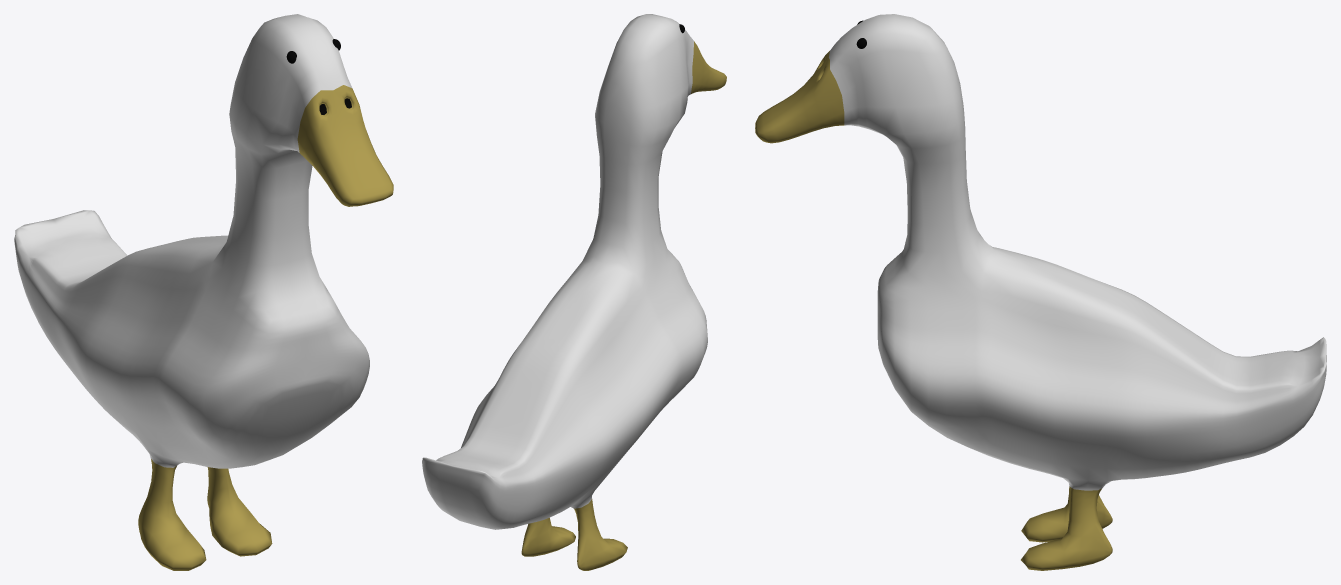
Rendered from pato 3d.fbx.
3 renders of one model, left to right at view 1: azimuth 30°, elevation 25°; view 2: azimuth 150°, elevation 25°; view 3: azimuth 270°, elevation 25°, orthographic. The views are drawn at different scales.
Visible parts, largest first — view 1: Cube; view 2: Cube; view 3: Cube.
Part boxes in pixels (left/top/right/bottom): Cube: left=14, top=14, right=393, bottom=570; Cube: left=422, top=14, right=726, bottom=570; Cube: left=755, top=14, right=1326, bottom=570.
Bounding box in the file's own units: 141 × 460 × 447.
